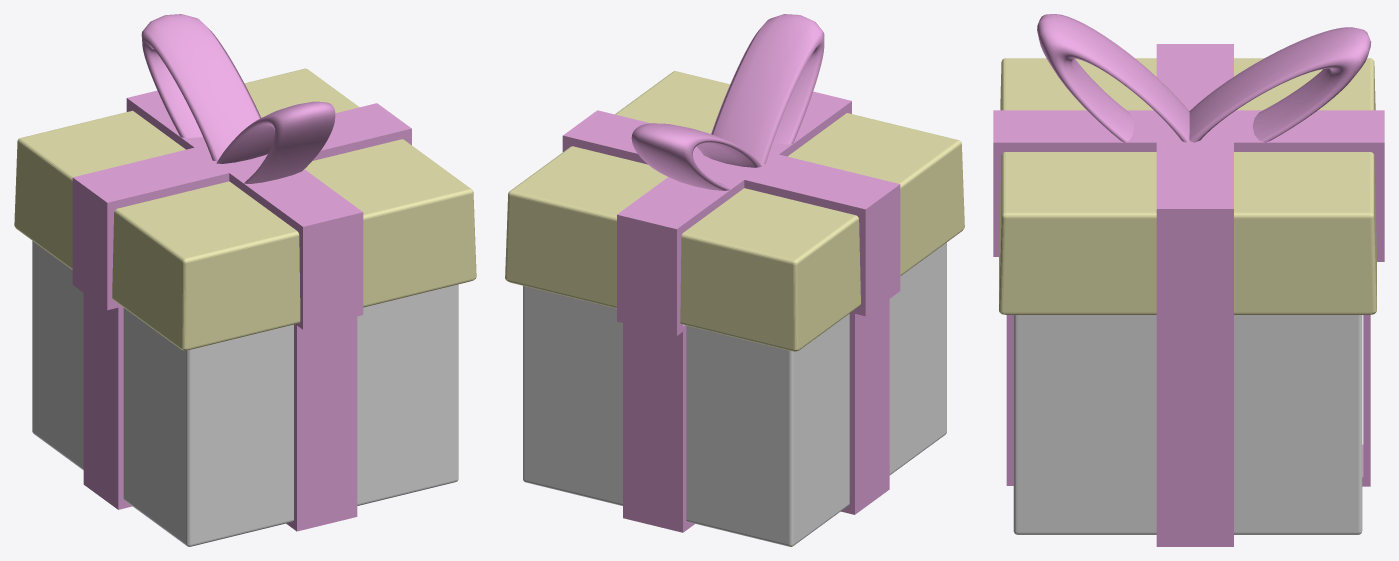
Rendered from 礼物盒2.fbx.
3 views of the same model, side by side, from view 1: azimuth 30°, elevation 25°; view 2: azimuth 150°, elevation 25°; view 3: azimuth 270°, elevation 25° (orthographic). The views are drawn at different scales.
Visible parts, largest first — view 1: 立方体.073, 立方体.071, 立方体.070, 立方体.069, 环体.005, 环体.006; view 2: 立方体.073, 立方体.069, 立方体.071, 环体.006, 环体.005; view 3: 立方体.073, 立方体.072, 立方体.069, 环体.005, 立方体.071, 环体.006, 立方体.070.
Part boxes in pixels (x1,y1,x2,y2): 立方体.073: (14,68,476,546); 立方体.071: (72,105,402,509); 立方体.070: (286,316,357,531); 立方体.069: (126,90,363,329); 环体.005: (141,14,260,161); 环体.006: (216,101,335,183); 立方体.073: (505,71,964,546); 立方体.069: (617,91,851,532); 立方体.071: (571,112,900,514); 环体.006: (711,14,824,164); 环体.005: (631,123,761,190); 立方体.073: (999,58,1376,534); 立方体.072: (1156,204,1233,546); 立方体.069: (993,110,1384,486); 环体.005: (1189,27,1371,142); 立方体.071: (1156,44,1233,204); 环体.006: (1037,14,1189,142); 立方体.070: (1006,315,1013,485).
Size of the model in its own units: 85.68 by 109 by 85.88.
